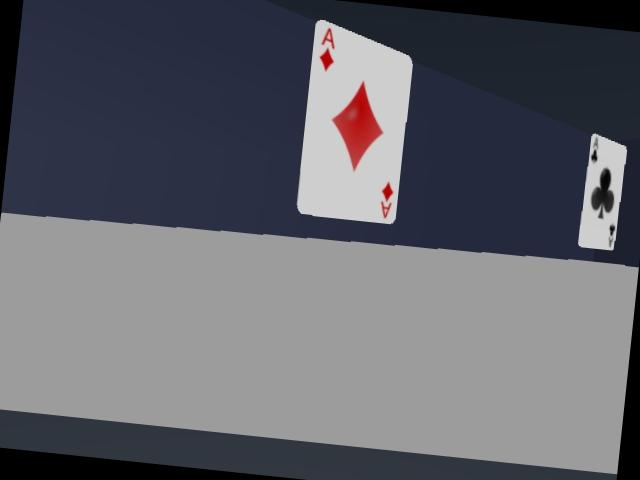club: (578, 134, 626, 249)
diamond: (297, 20, 412, 223)
